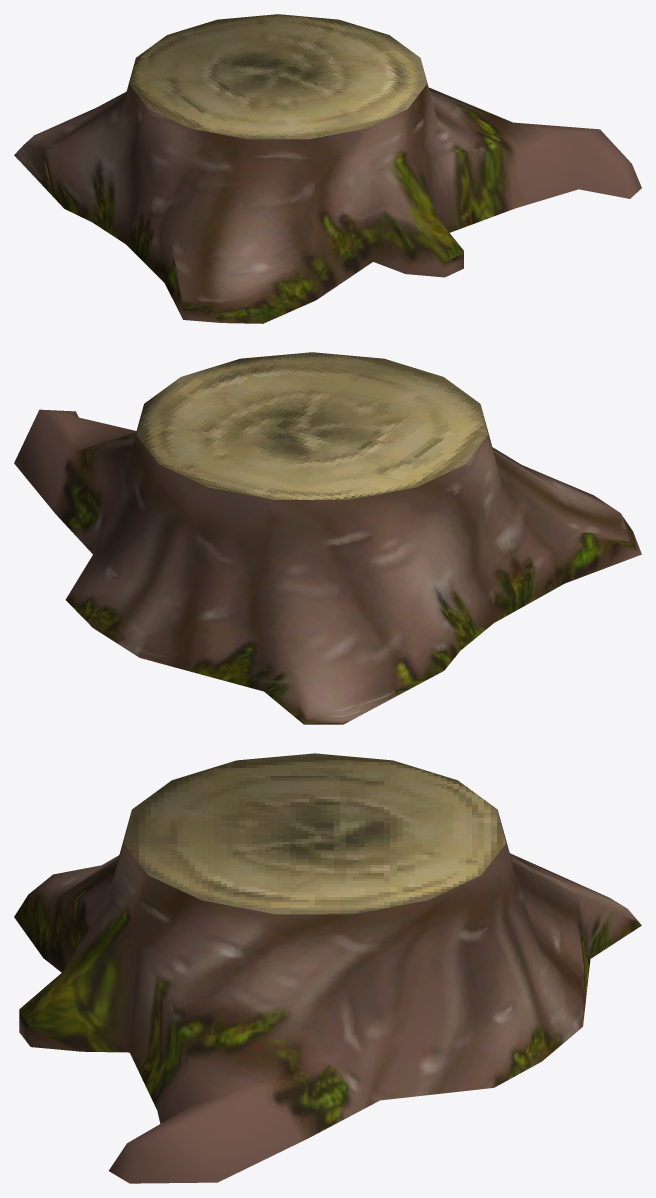
The model's file is STUMP.obj.
3 views of the same model, one above another, from view 1: azimuth 30°, elevation 25°; view 2: azimuth 150°, elevation 25°; view 3: azimuth 270°, elevation 25° (orthographic). The views are drawn at different scales.
Parts seen in each view (by area): view 1: Cylinder02; view 2: Cylinder02; view 3: Cylinder02.
Boxes of the visible parts, x1,y1,x2,y2 form: Cylinder02: [14, 14, 641, 323]; Cylinder02: [14, 352, 641, 724]; Cylinder02: [14, 753, 641, 1183].
Bounding box in the file's own units: 272 × 70.23 × 240.
